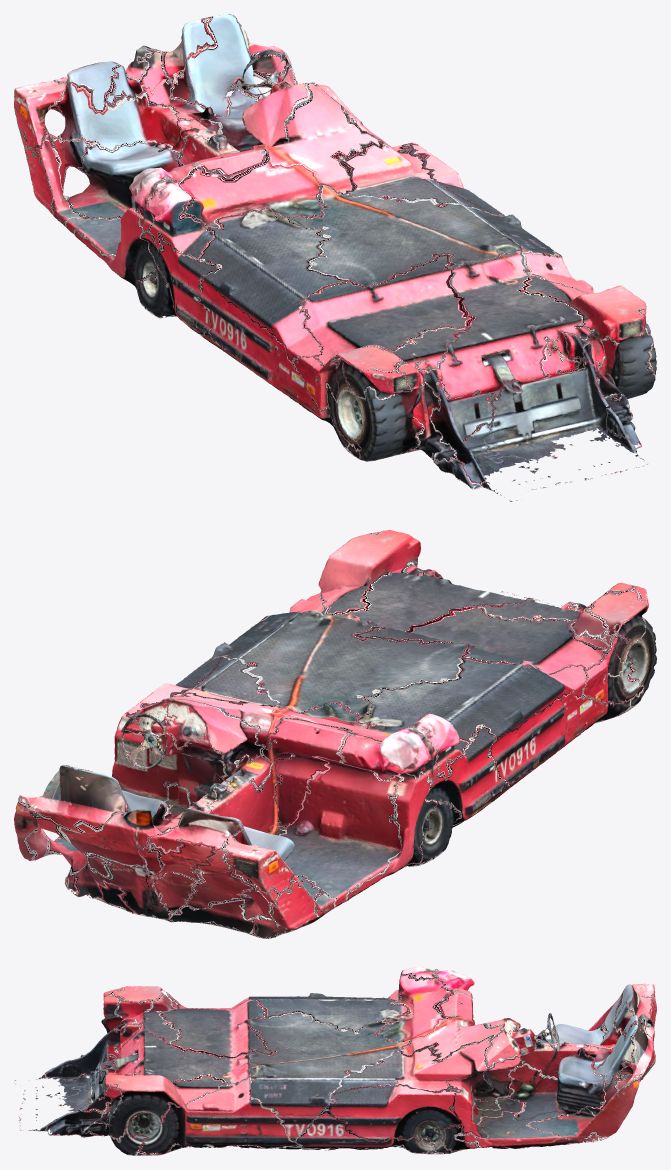
The model's file is lektro-88.glb.
3 renders of one model, top to bottom at view 1: azimuth 30°, elevation 25°; view 2: azimuth 150°, elevation 25°; view 3: azimuth 270°, elevation 25°, orthographic. The views are drawn at different scales.
Visible parts, largest first — view 1: LEKTRO_KIRI_Clean_Body, LEKTRO_KIRI_RearSteerWheel_L; view 2: LEKTRO_KIRI_Clean_Body, LEKTRO_KIRI_RearSteerWheel_L; view 3: LEKTRO_KIRI_Clean_Body, LEKTRO_KIRI_RearSteerWheel_R.
Boxes of the visible parts, x1,y1,x2,y2 form: LEKTRO_KIRI_Clean_Body: (14,14,656,501); LEKTRO_KIRI_RearSteerWheel_L: (125,223,171,313); LEKTRO_KIRI_Clean_Body: (14,530,656,938); LEKTRO_KIRI_RearSteerWheel_L: (412,771,456,863); LEKTRO_KIRI_Clean_Body: (14,967,656,1155); LEKTRO_KIRI_RearSteerWheel_R: (400,1089,464,1154).
Bounding box in the file's own units: 2.05 × 0.99 × 5.24.
Materials: 1 (1 with a texture image).
